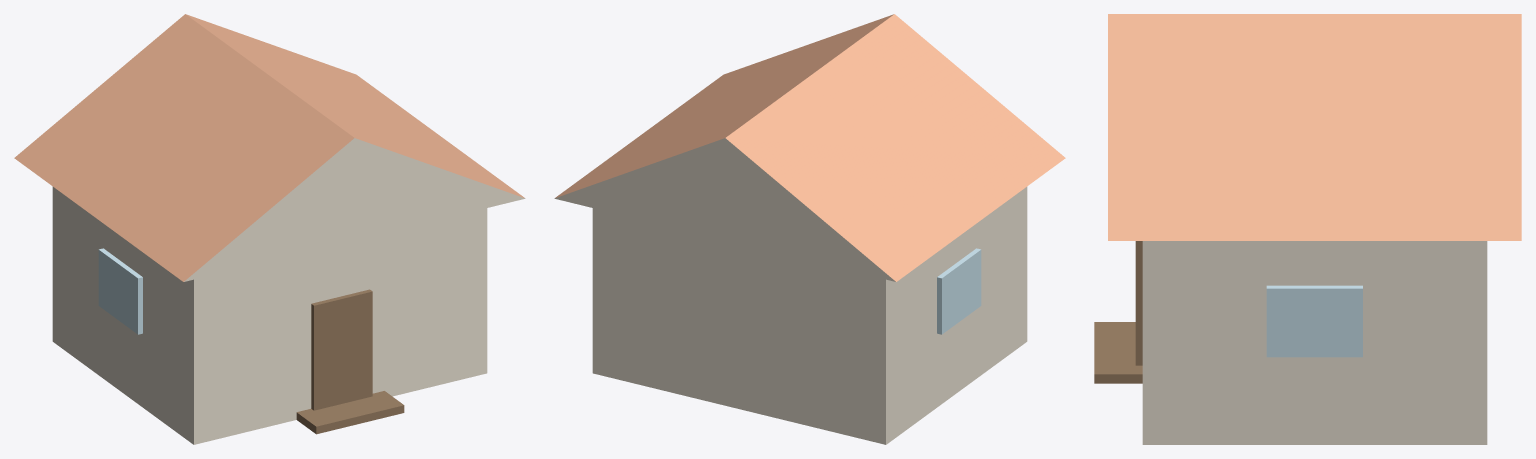
Rendered from Cabin.fbx.
The picture shows the model from 3 angles, left to right: view 1: azimuth 30°, elevation 25°; view 2: azimuth 150°, elevation 25°; view 3: azimuth 270°, elevation 25°; orthographic projection. The views are drawn at different scales.
Visible parts, largest first — view 1: Cabin_Model; view 2: Cabin_Model; view 3: Cabin_Model.
Boxes of the visible parts, x1=… form: Cabin_Model: x1=14, y1=14, x2=525, y2=444; Cabin_Model: x1=554, y1=14, x2=1065, y2=444; Cabin_Model: x1=1094, y1=14, x2=1521, y2=444.
Size of the model in its own units: 7 by 5.5 by 6.2.
